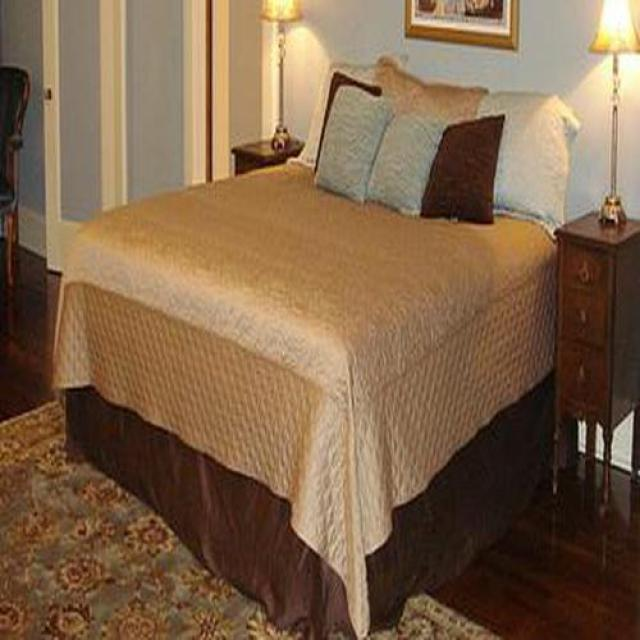bed: (49, 60, 576, 640)
